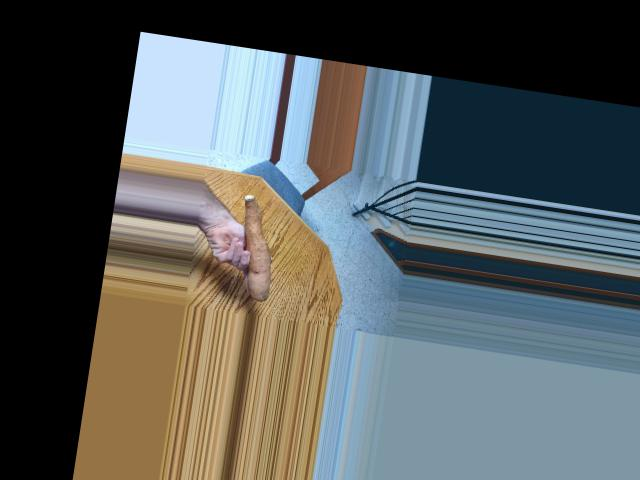sweet_potato: (225, 192, 286, 299)
